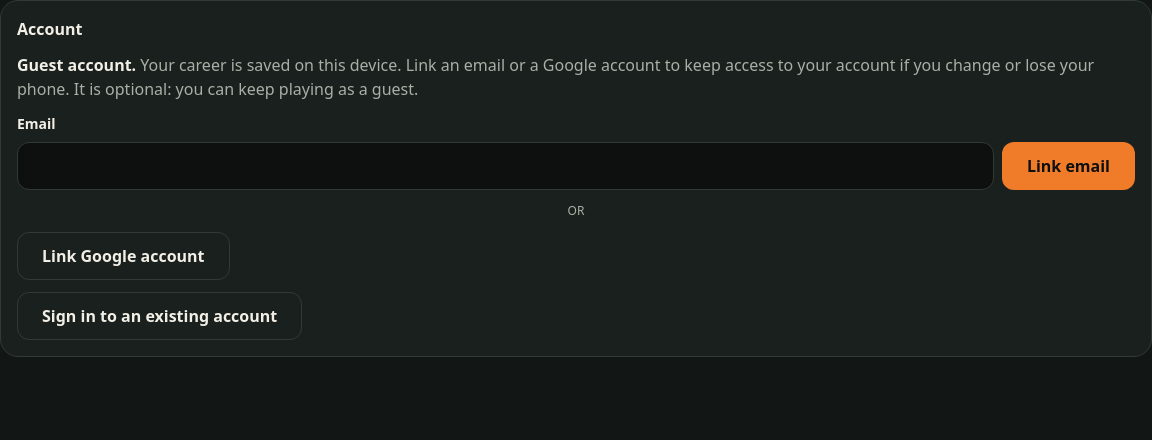
Test: Account card › shows a guest account with the linking options, and links an email
This screenshot has width=1152, height=440.
Expected: the text "Guest account." is shown, [17,54,136,76]
Expected: the text "It is optional: you can keep playing as a guest" is shown, [17,54,1094,100]
Type "ana@example.com" into the field labelled "Email" at (505, 166), box [17,142,994,190]
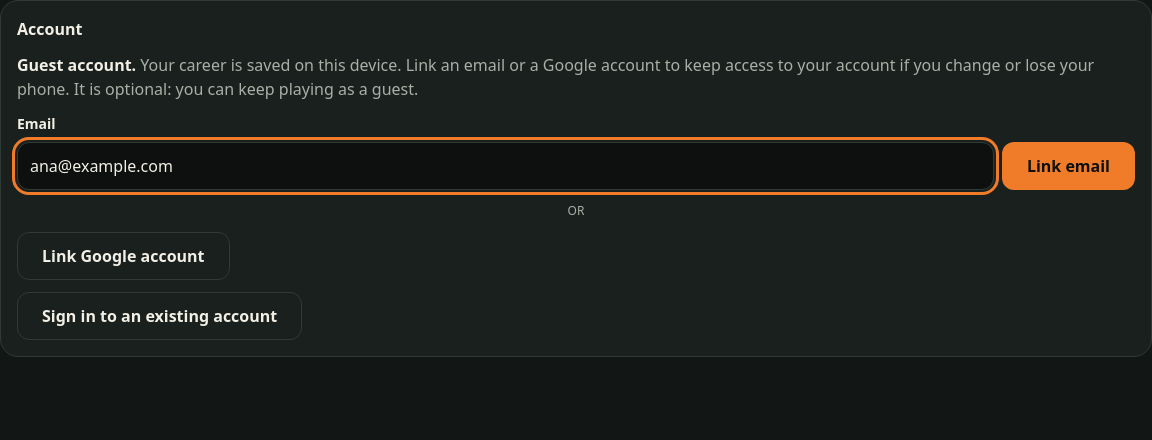
Click the button "Link email" at (1068, 166), box [1002,142,1135,190]
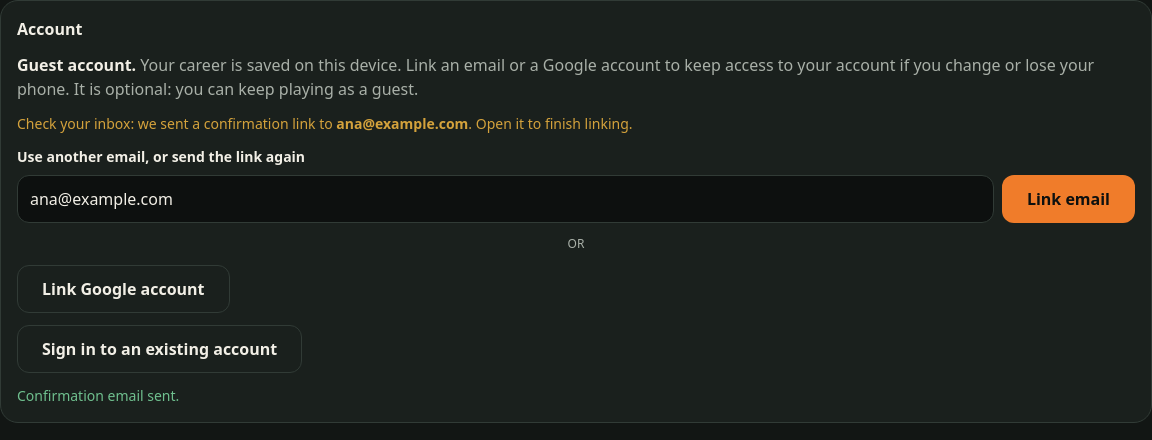
Expected: the message reads "Confirmation email sent.", [17,386,179,405]
Expected: the text "Check your inbox: we sent a confirmation link" is shown, [17,114,336,133]
Expected: the text "ana@example.com" is shown, [336,114,468,133]
